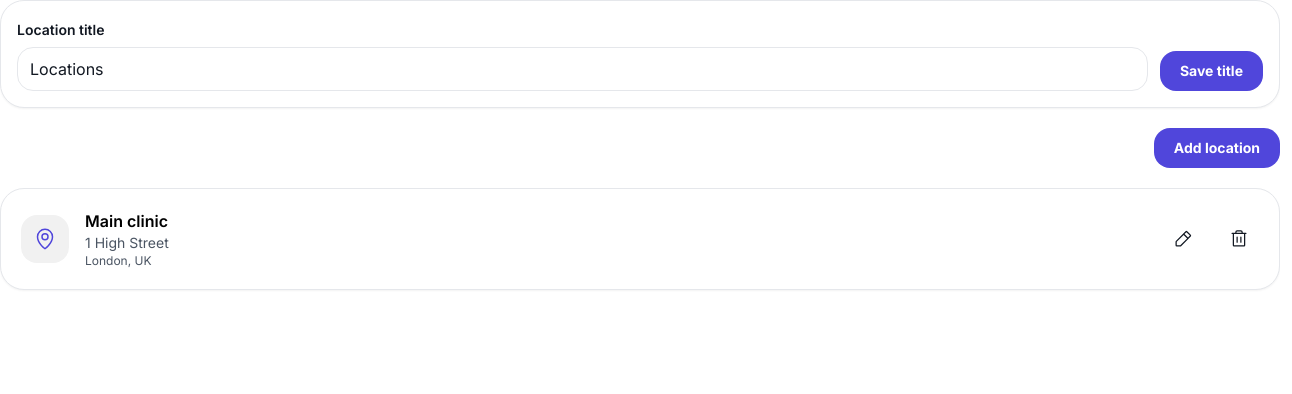
it: LocationManager › renders readable bounded cards and preserves a failed title draft
Replace the text in the field labelled "Location title" with "Find our clinics". click: coordinates (582, 69)
box: x1=17 y1=47 x2=1148 y2=91
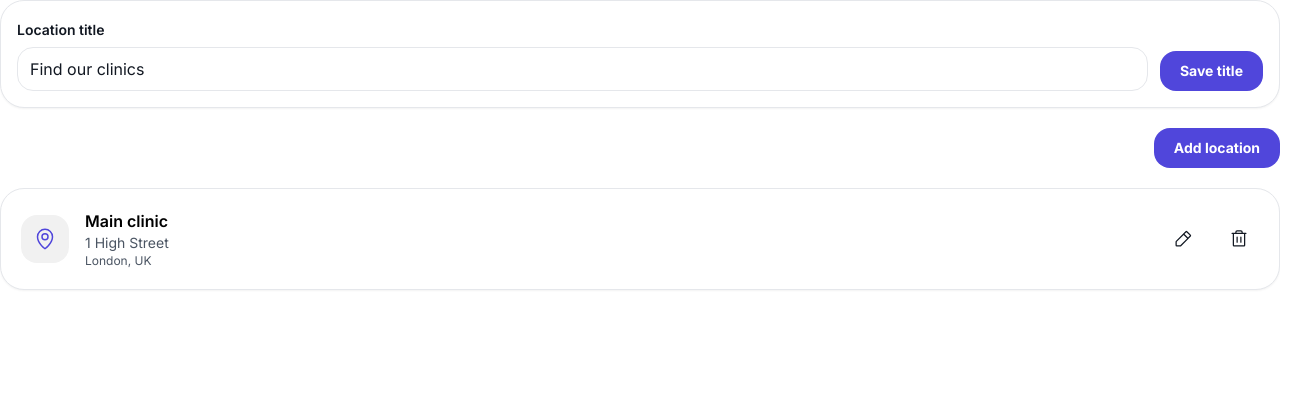
Click the button "Save title". click: coordinates (1211, 71)
box: x1=1160 y1=51 x2=1263 y2=91
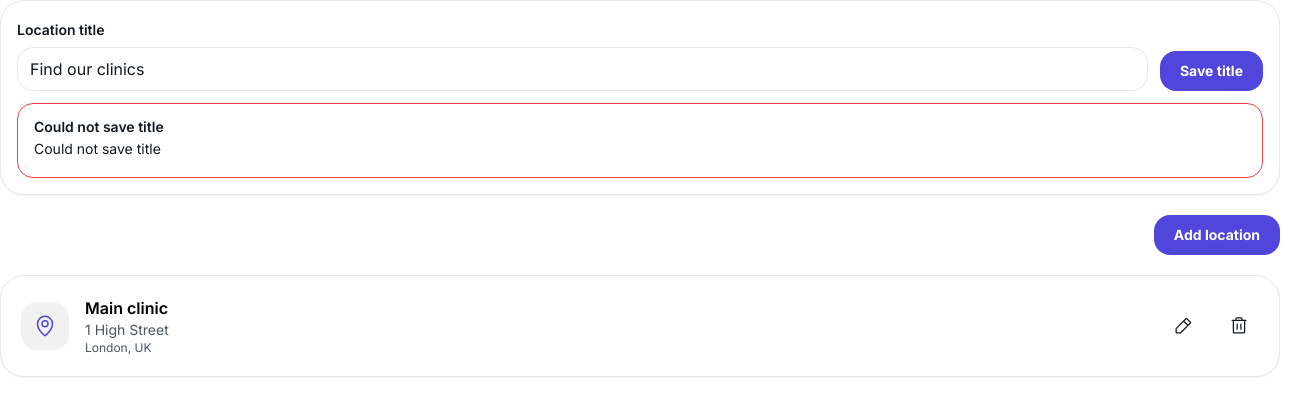
Result: the message "Could not save title Could not save title" is shown at x1=17 y1=103 x2=1263 y2=178
